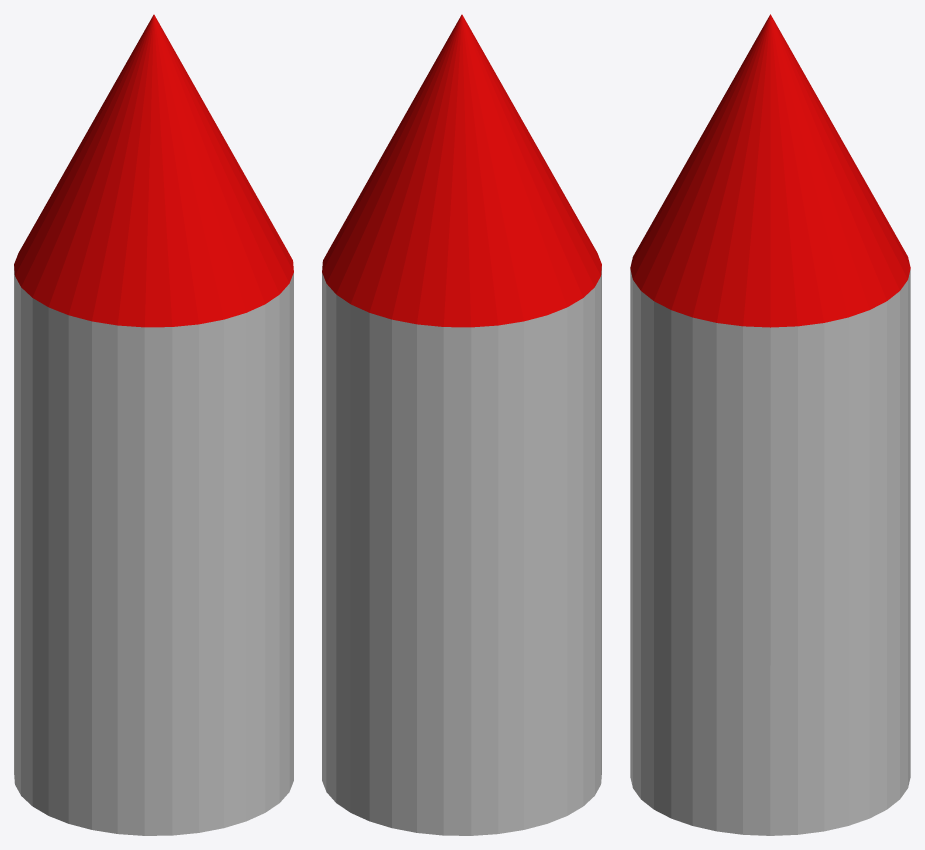
Rendered from MissileModel.fbx.
The picture shows the model from 3 angles, left to right: view 1: azimuth 30°, elevation 25°; view 2: azimuth 150°, elevation 25°; view 3: azimuth 270°, elevation 25°; orthographic projection.
Visible parts, largest first — view 1: Cylinder; view 2: Cylinder; view 3: Cylinder.
Boxes of the visible parts, x1,y1,x2,y2 form: Cylinder: [14, 14, 293, 835]; Cylinder: [322, 14, 601, 835]; Cylinder: [630, 14, 910, 835].
Size of the model in its own units: 50 by 150 by 50.
